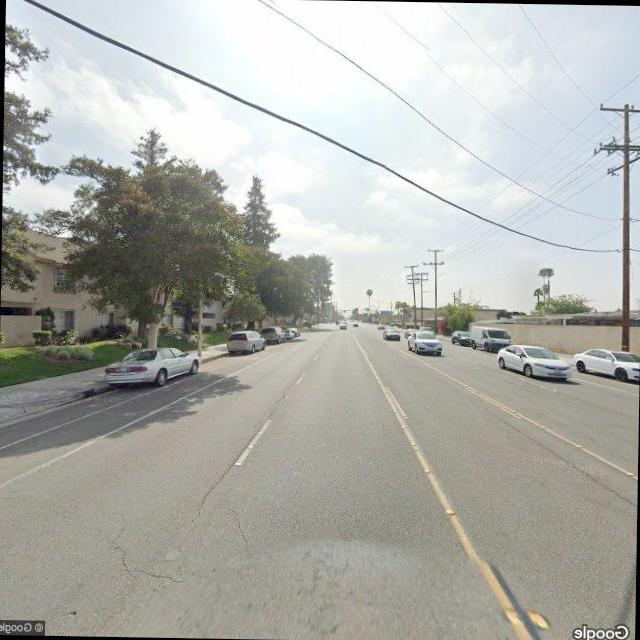pothole: (108, 522, 186, 586), (232, 512, 252, 550), (380, 414, 391, 437)
